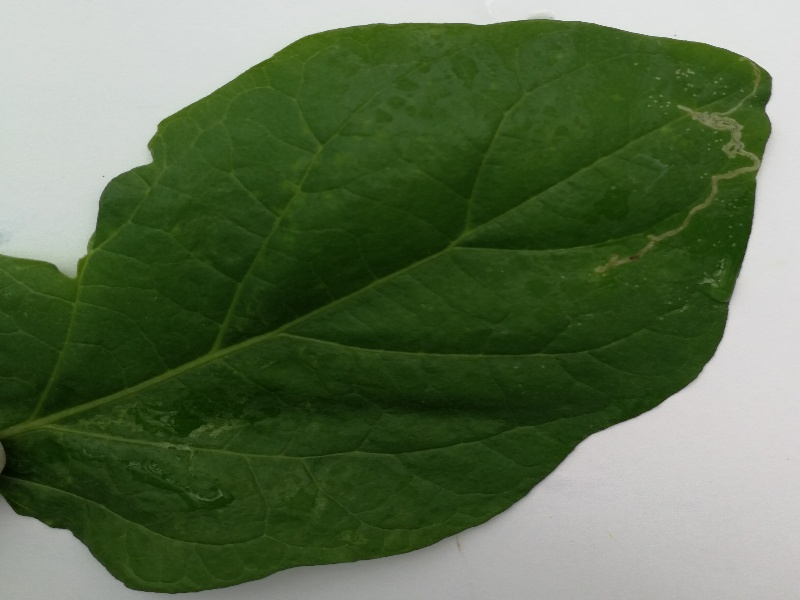leafminer: (579, 67, 771, 281)
